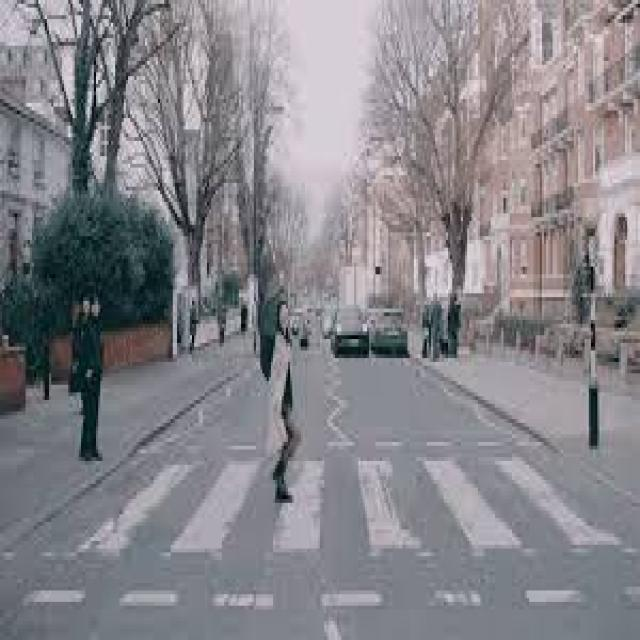Pedestrians: (264, 301, 303, 503), (77, 293, 109, 465), (329, 305, 369, 358), (371, 309, 410, 358)
